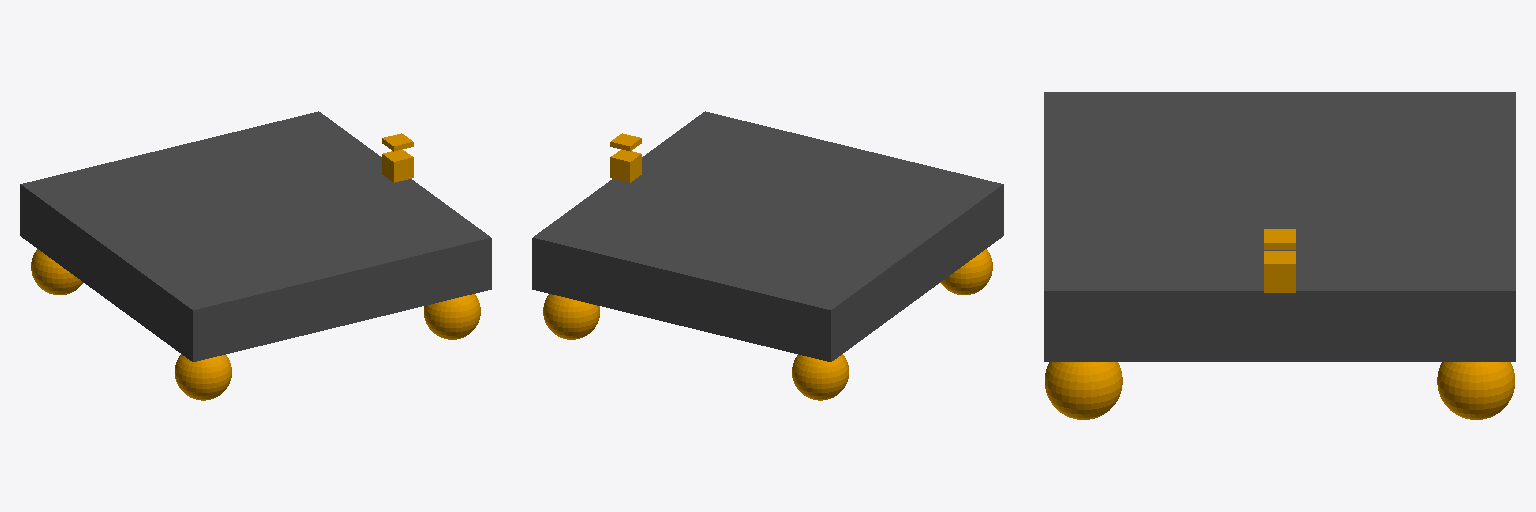
URDF robot description (ropod):
<?xml version="1.0" ?>
<robot name="ropod">
  <link name="ropod__base_link">
    <inertial>
      <mass value="0.01"/>
      <origin rpy="0  0  0" xyz="0  0  0"/>
      <inertia ixx="0.0" ixy="0.0" ixz="0.0" iyy="8.383E-4" iyz="0.0" izz="1.66E-3"/>
    </inertial>
    <collision name="ropod__base_link_collision">
      <origin rpy="0  0  0" xyz="0    0    0.15"/>
      <geometry>
        <box size="0.6 0.6 0.1"/>
      </geometry>
    </collision>
    <collision name="ropod__base_link_collision_left_rear_wheel">
      <origin rpy="0  0  0" xyz="-0.25  0.25  0.05"/>
      <geometry>
        <sphere radius="0.05"/>
      </geometry>
    </collision>
    <collision name="ropod__base_link_collision_left_top_wheel">
      <origin rpy="0  0  0" xyz="0.25  0.25  0.05"/>
      <geometry>
        <sphere radius="0.05"/>
      </geometry>
    </collision>
    <collision name="ropod__base_link_collision_right_top_wheel">
      <origin rpy="0  0  0" xyz="0.25 -0.25  0.05"/>
      <geometry>
        <sphere radius="0.05"/>
      </geometry>
    </collision>
    <collision name="ropod__base_link_collision_right_rear_wheel">
      <origin rpy="0  0  0" xyz="-0.25 -0.25  0.05"/>
      <geometry>
        <sphere radius="0.05"/>
      </geometry>
    </collision>
    <visual name="ropod__base_link_visual">
      <origin rpy="0  0  0" xyz="0    0    0.15"/>
      <geometry>
        <box size="0.6 0.6 0.1"/>
      </geometry>
      <material
        name="">
        <color
          rgba="0.35 0.35 0.35 1" />
      </material>
    </visual>
    <visual name="ropod__base_link_visual_left_rear_wheel">
      <origin rpy="0  0  0" xyz="-0.25  0.25  0.05"/>
      <geometry>
        <sphere radius="0.05"/>
      </geometry>
    </visual>
    <visual name="ropod__base_link_visual_left_top_wheel">
      <origin rpy="0  0  0" xyz="0.25  0.25  0.05"/>
      <geometry>
        <sphere radius="0.05"/>
      </geometry>
    </visual>
    <visual name="ropod__base_link_visual_right_top_wheel">
      <origin rpy="0  0  0" xyz="0.25 -0.25  0.05"/>
      <geometry>
        <sphere radius="0.05"/>
      </geometry>
    </visual>
    <visual name="ropod__base_link_visual_right_rear_wheel">
      <origin rpy="0  0  0" xyz="-0.25 -0.25  0.05"/>
      <geometry>
        <sphere radius="0.05"/>
      </geometry>
    </visual>
    <visual name="ropod__base_link_visual_laser">
      <origin rpy="0  0  0" xyz="0.28499  0       0.22"/>
      <geometry>
        <box size="0.04 0.04 0.04"/>
      </geometry>
    </visual>
    <visual name="ropod__base_link_visual_lasertop">
      <origin rpy="0  0  0" xyz="0.28499  0       0.265"/>
      <geometry>
        <box size="0.04 0.04 0.01"/>
      </geometry>
    </visual>
  </link>
</robot>

--- Render facts (derived) ---
Views: 3 orthographic renders of the robot side by side, from view 1: azimuth 30°, elevation 25°; view 2: azimuth 150°, elevation 25°; view 3: azimuth 270°, elevation 25°.
Model ropod with 1 links and 0 joints (none), rooted at ropod__base_link, posed every joint at zero.
Visible links, largest first — view 1: ropod__base_link; view 2: ropod__base_link; view 3: ropod__base_link.
Boxes of the visible links, x1,y1,x2,y2 form: ropod__base_link: (20, 111, 491, 400); ropod__base_link: (532, 111, 1003, 400); ropod__base_link: (1044, 92, 1515, 419).
Bounding box of the posed robot: 0.605 × 0.6 × 0.27 m (x, y, z).
Geometry: primitives only (box / cylinder / sphere), no mesh files.